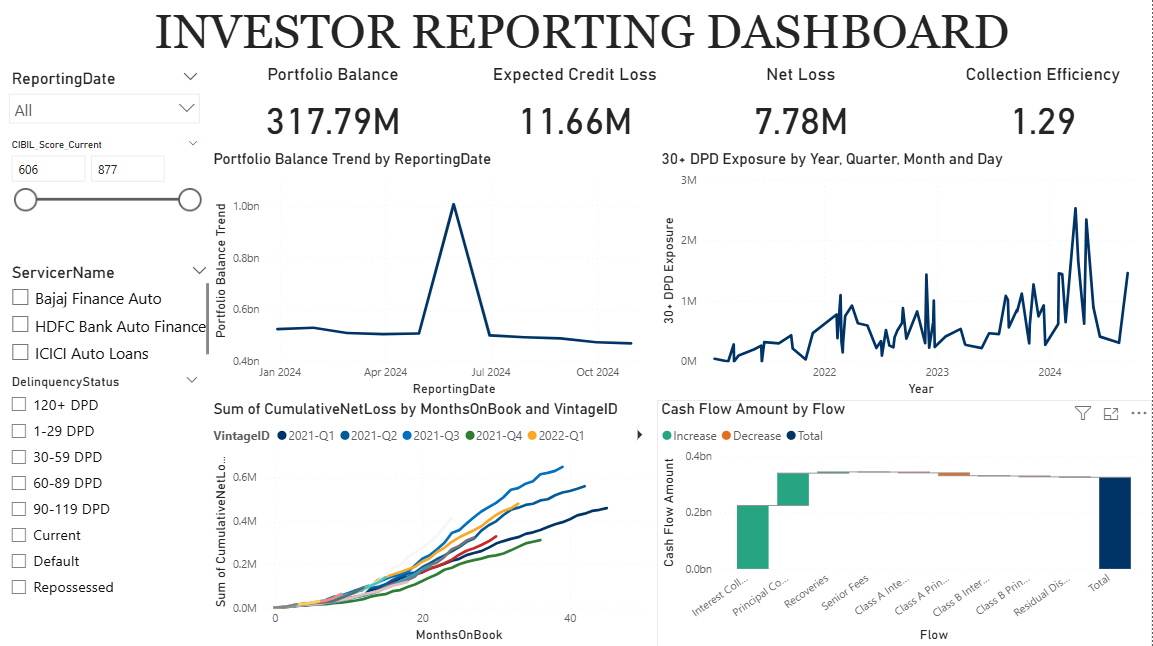

The page's visual inventory and layout, read from the dashboard file:
{"tool":"powerbi","page":{"name":"INVESTOR REPORTING DASHBOARD","canvas":[1280,720],"ordinal":7},"visuals":[{"type":"slicer","fields":{"Values":["dynamic_loss_monthly.ReportingDate"]},"box":[0,72,232,78],"z":0},{"type":"slicer","fields":{"Values":["auto_loan_securitisation_data.ServicerName"]},"box":[0,288,242,124],"z":1000},{"type":"card","title":"Portfolio Balance","fields":{"Values":["auto_loan_securitisation_data.Portfolio Balance"]},"box":[260,72,220,96],"z":2000},{"type":"card","title":"Expected Credit Loss","fields":{"Values":["auto_loan_securitisation_data.Total ECL"]},"box":[518,72,242,96],"z":3000},{"type":"card","title":"Net Loss","fields":{"Values":["dynamic_loss_monthly.Net Loss"]},"box":[768,72,244,96],"z":4000},{"type":"card","title":"Collection Efficiency","fields":{"Values":["dynamic_loss_monthly.Collection Efficiency"]},"box":[1038,72,242,96],"z":5000},{"type":"lineChart","fields":{"Category":["dynamic_loss_monthly.ReportingDate"],"Y":["dynamic_loss_monthly.Portfolio Balance Trend"]},"box":[232,168,498,278],"z":6000},{"type":"lineChart","fields":{"Y":["auto_loan_securitisation_data.30+ DPD Exposure"],"Category":["auto_loan_securitisation_data.OriginationDate.Variation.Date Hierarchy.Year","auto_loan_securitisation_data.OriginationDate.Variation.Date Hierarchy.Quarter","auto_loan_securitisation_data.OriginationDate.Variation.Date Hierarchy.Month","auto_loan_securitisation_data.OriginationDate.Variation.Date Hierarchy.Day"]},"box":[730,168,550,278],"z":7000},{"type":"lineChart","fields":{"Category":["static_pool_vintage_data.MonthsOnBook"],"Series":["static_pool_vintage_data.VintageID"],"Y":["Sum(static_pool_vintage_data.CumulativeNetLoss)"]},"box":[232,446,498,274],"z":8000},{"type":"waterfallChart","fields":{"Category":["Waterfall_Flows.Flow"],"Y":["Waterfall_Flows.Cash Flow Amount"]},"box":[730,446,550,274],"z":9000},{"type":"slicer","fields":{"Values":["auto_loan_securitisation_data.DelinquencyStatus"]},"box":[0,412,232,308],"z":10000},{"type":"slicer","fields":{"Values":["auto_loan_securitisation_data.CIBIL_Score_Current"]},"box":[0,150,232,120],"z":11000},{"type":"textbox","box":[0,0,1280,72],"z":12000}]}

Visuals, with their boxes in screenshot pixels (x1, y1, x2, y2), scaled from the page's 1280x720 canvas onto the 1153x646 screenshot:
slicer - dynamic_loss_monthly.ReportingDate: [0,65,209,135]
slicer - auto_loan_securitisation_data.ServicerName: [0,258,218,370]
"Portfolio Balance" card: [234,65,432,151]
"Expected Credit Loss" card: [467,65,685,151]
"Net Loss" card: [692,65,912,151]
"Collection Efficiency" card: [935,65,1152,151]
lineChart - dynamic_loss_monthly.ReportingDate x dynamic_loss_monthly.Portfolio Balance Trend: [209,151,658,400]
lineChart - auto_loan_securitisation_data.30+ DPD Exposure x auto_loan_securitisation_data.OriginationDate.Variation.Date Hierarchy.Year: [658,151,1152,400]
lineChart - static_pool_vintage_data.MonthsOnBook x static_pool_vintage_data.VintageID: [209,400,658,645]
waterfallChart - Waterfall_Flows.Flow x Waterfall_Flows.Cash Flow Amount: [658,400,1152,645]
slicer - auto_loan_securitisation_data.DelinquencyStatus: [0,370,209,645]
slicer - auto_loan_securitisation_data.CIBIL_Score_Current: [0,135,209,242]
textbox: [0,0,1152,65]
